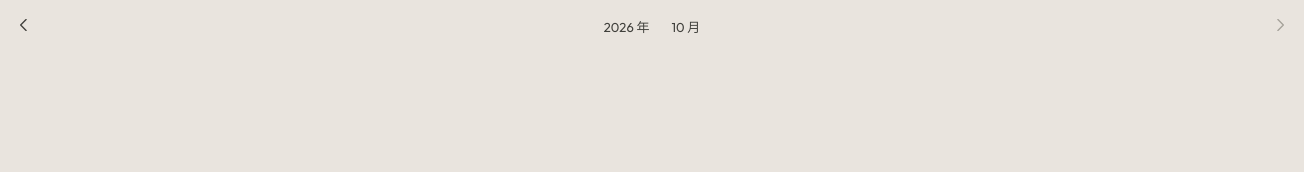
Test: CalendarNavBar · 年份切换 › 超出可导航范围的年份被禁用（有照片的最早年 ~ 当前年）
Step 1. Click the button with class "nav-pick" showing "2026 年" → (627, 26), box [595,14,658,38]
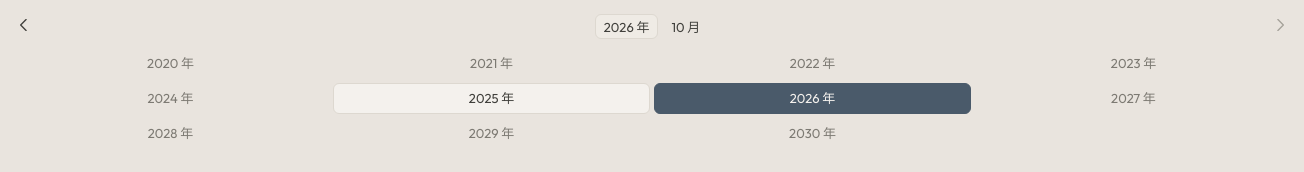
Result: the option with class "nav-cell" showing "2020 年" is disabled at [12,48,329,79]
